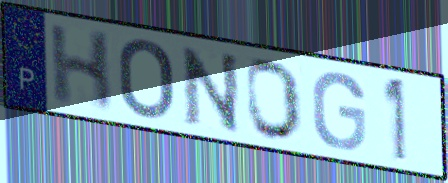1: (380, 74, 409, 167)
G: (310, 70, 368, 152)
H: (47, 22, 115, 114)
N: (178, 44, 243, 136)
O: (244, 56, 305, 143), (116, 37, 176, 122)
